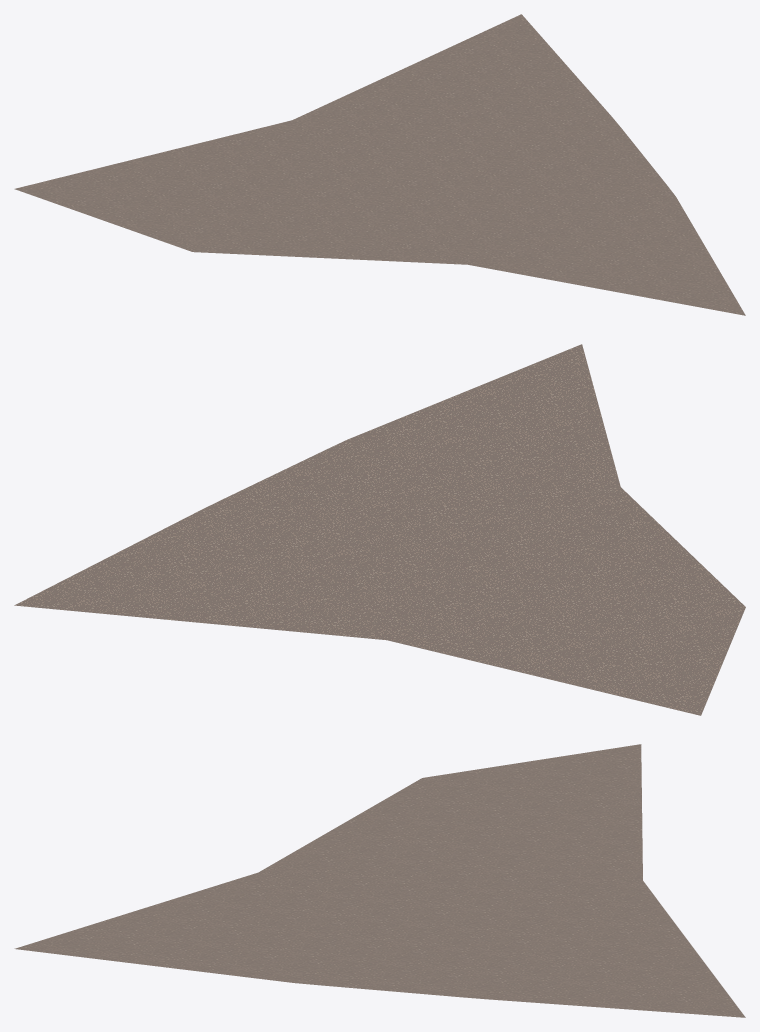
Rendered from kd_stage_136599_0_13_bounded.glb.
3 renders of one model, top to bottom at view 1: azimuth 30°, elevation 25°; view 2: azimuth 150°, elevation 25°; view 3: azimuth 270°, elevation 25°, orthographic. The views are drawn at different scales.
Visible parts, largest first — view 1: kd_stage_136599_0_13_bounded; view 2: kd_stage_136599_0_13_bounded; view 3: kd_stage_136599_0_13_bounded.
Boxes of the visible parts, x1,y1,x2,y2 form: kd_stage_136599_0_13_bounded: (14,14,745,315); kd_stage_136599_0_13_bounded: (14,344,745,715); kd_stage_136599_0_13_bounded: (14,744,745,1017).
Size of the model in its own units: 31.29 by 5.72e-06 by 35.36.
1 material, 1 textured.
